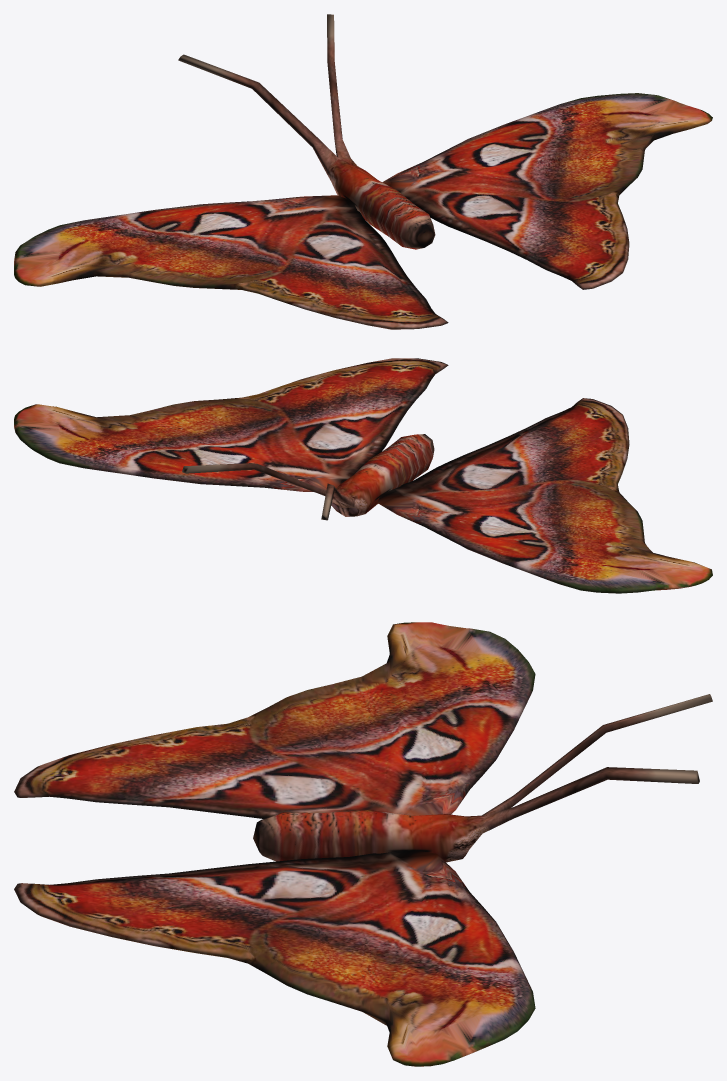
File: Butterfly_Lod3.fbx
The picture shows the model from 3 angles, top to bottom: view 1: azimuth 30°, elevation 25°; view 2: azimuth 150°, elevation 25°; view 3: azimuth 270°, elevation 25°; orthographic projection. The views are drawn at different scales.
Parts seen in each view (by area): view 1: Butterfly_wings, Butterfly_Body; view 2: Butterfly_wings, Butterfly_Body; view 3: Butterfly_wings, Butterfly_Body.
Boxes of the visible parts, bbox=[...] form: Butterfly_wings: bbox=[14, 93, 712, 329]; Butterfly_Body: bbox=[178, 14, 435, 249]; Butterfly_wings: bbox=[14, 358, 712, 593]; Butterfly_Body: bbox=[182, 434, 434, 520]; Butterfly_wings: bbox=[14, 622, 535, 1066]; Butterfly_Body: bbox=[253, 694, 712, 862].
Size of the model in its own units: 92.44 by 13.42 by 61.49.
